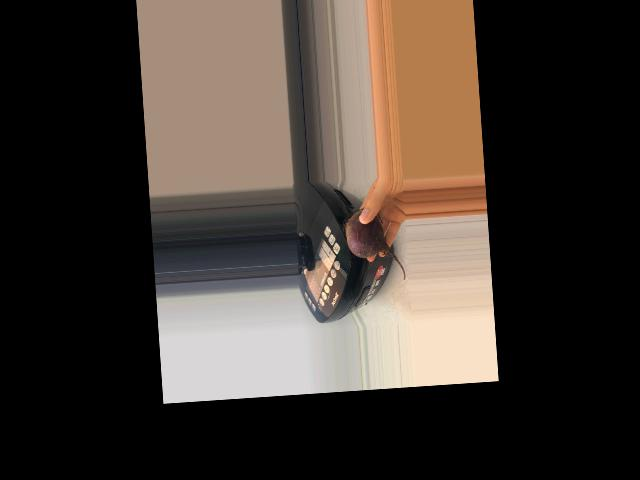beet: (342, 206, 405, 284)
